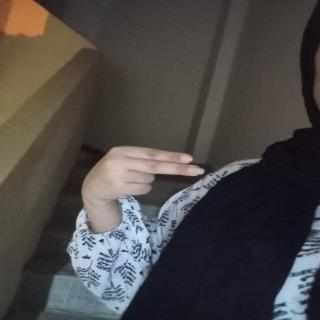AYN: (74, 136, 235, 219)
